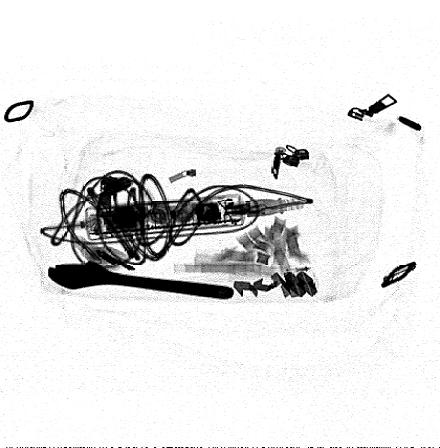Wrench: (46, 257, 235, 301)
